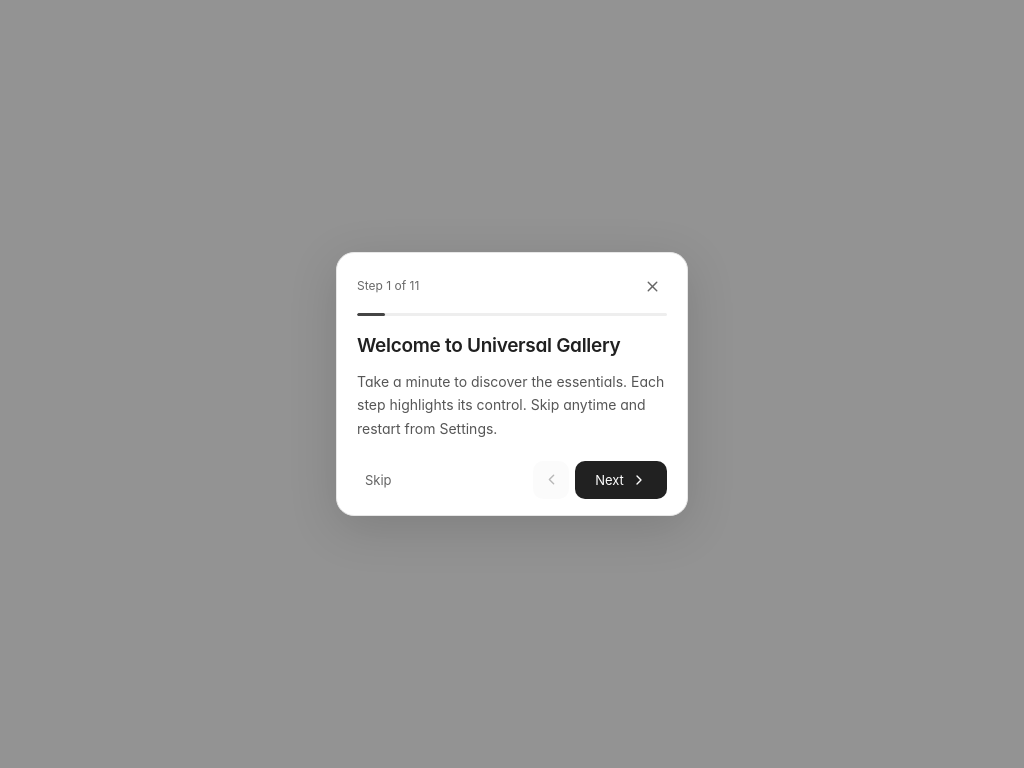
Test case: OnboardingTour › shows a fallback card when a tour target is missing
This screenshot has width=1024, height=768.
Click the button "Next". click: (621, 480)
box: left=575, top=461, right=667, bottom=499
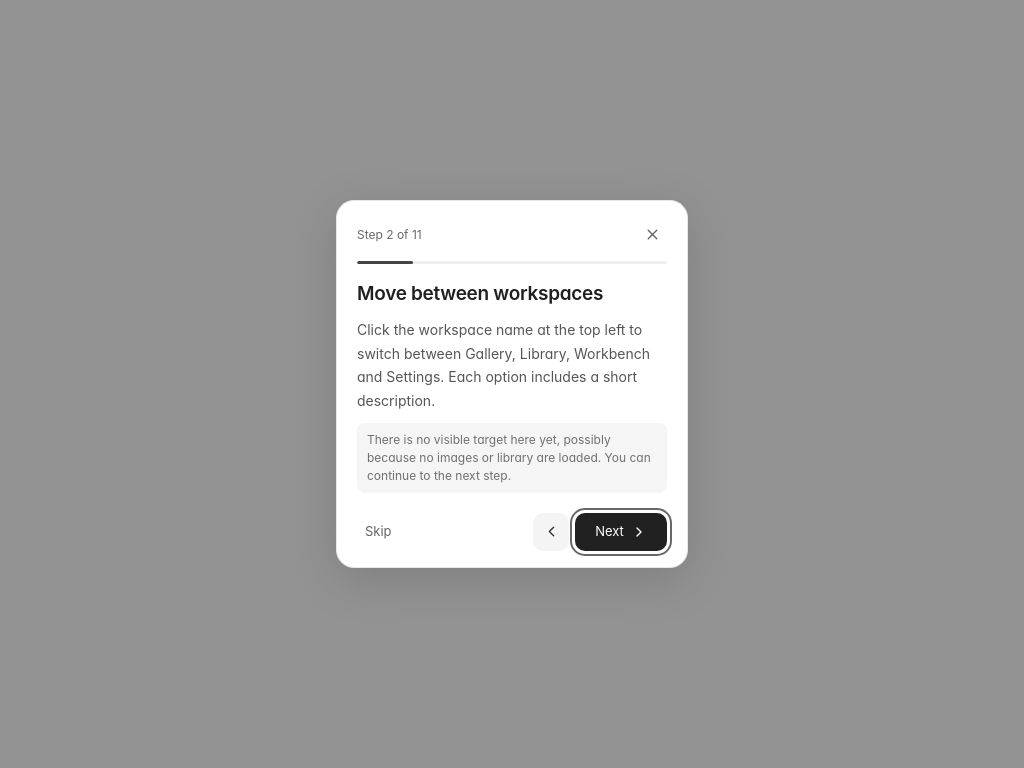
Check: the heading "Move between workspaces" is shown, box left=357, top=282, right=603, bottom=305
Check: the text "There is no visible target here yet, possibly because no images or library are loaded. You can continue to the next step" is shown, box left=367, top=432, right=651, bottom=483
